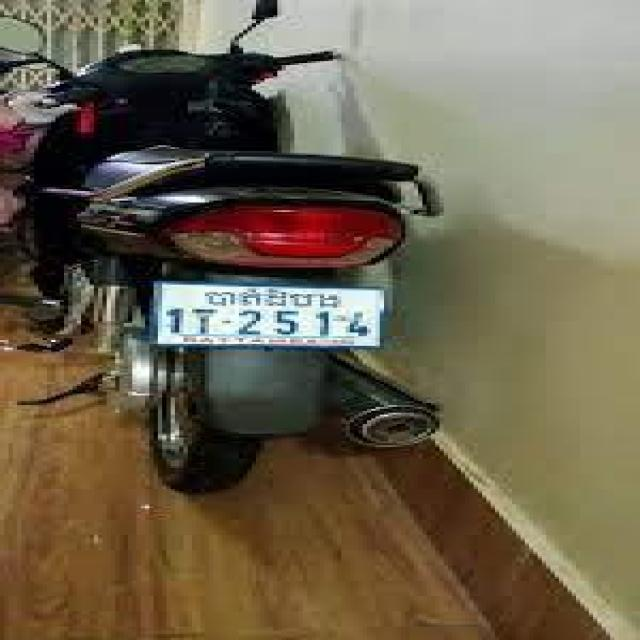Battambang: (205, 289, 342, 309)
